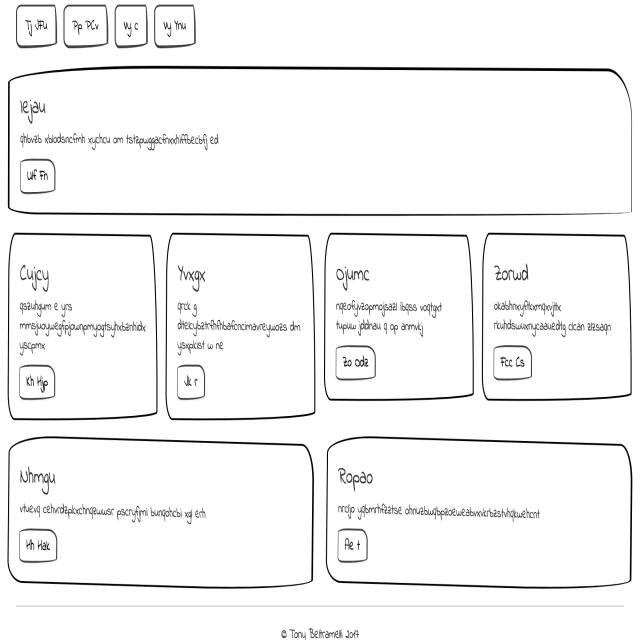Button: (13, 523, 62, 567), (332, 341, 380, 383), (491, 343, 535, 388), (16, 364, 58, 406), (17, 158, 61, 197), (174, 362, 209, 400), (336, 527, 369, 566)
Card: (5, 62, 636, 222), (5, 430, 315, 598), (323, 434, 637, 596), (6, 227, 161, 426), (164, 229, 318, 428), (479, 227, 634, 418), (322, 233, 478, 420)
Footer: (0, 599, 640, 640)
Heading 6: (16, 459, 60, 498), (172, 258, 214, 296), (335, 456, 377, 494), (332, 261, 376, 293), (15, 262, 61, 292), (492, 258, 532, 290), (15, 93, 52, 123)
Navigation Bar: (12, 0, 201, 53)
Paragraph: (15, 295, 151, 359), (172, 297, 303, 357), (16, 499, 212, 528), (491, 294, 620, 336), (330, 499, 549, 522), (332, 294, 446, 338), (18, 130, 223, 154)
